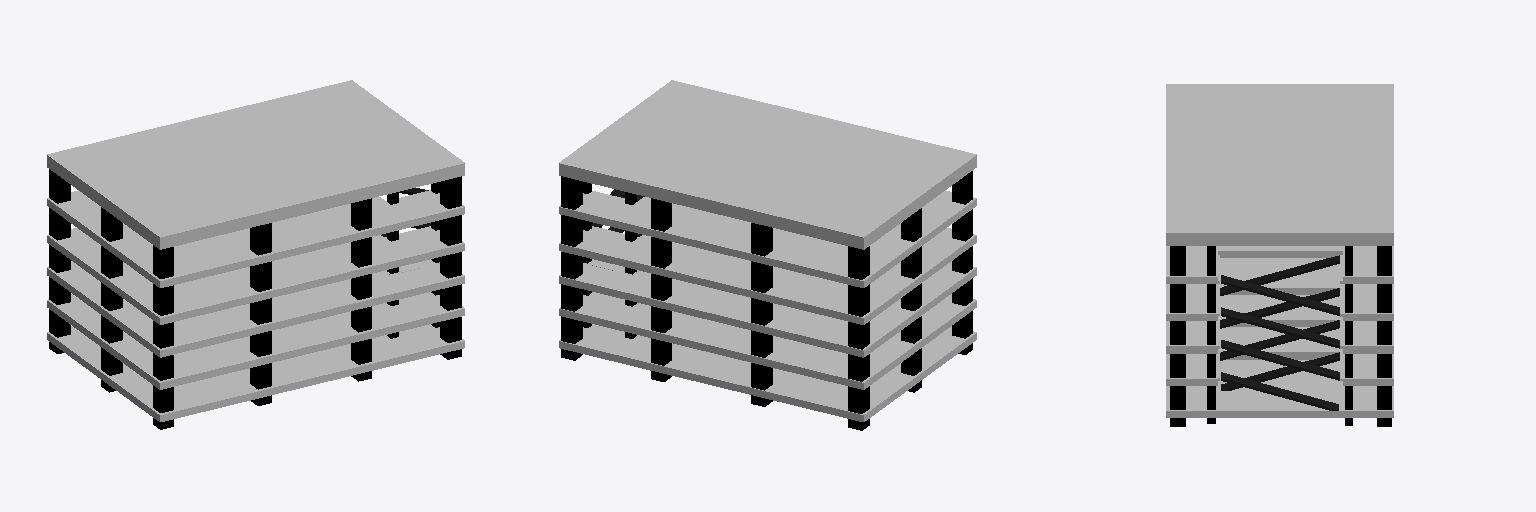
The model's file is parking.obj.
3 renders of one model, left to right at view 1: azimuth 30°, elevation 25°; view 2: azimuth 150°, elevation 25°; view 3: azimuth 270°, elevation 25°, orthographic.
Visible parts, largest first — view 1: 立方体.020_立方体.024, 立方体.003_立方体.037, 立方体.021_立方体.025, 立方体.024_立方体.028, 立方体.023_立方体.027, 立方体.022_立方体.026, 立方体.029_立方体.022, 立方体.011_立方体.005, 立方体.012_立方体.007, 立方体.018_立方体.011, 立方体.026_立方体.016, 立方体.027_立方体.020; view 2: 立方体.020_立方体.024, 立方体.003_立方体.037, 立方体.021_立方体.025, 立方体.024_立方体.028, 立方体.023_立方体.027, 立方体.022_立方体.026, 立方体.027_立方体.020, 立方体.028_立方体.033, 立方体.016_立方体.008, 立方体.019_立方体.012, 立方体.026_立方体.016, 立方体.029_立方体.022; view 3: 立方体.020_立方体.024, 立方体.015_立方体.019, 立方体.024_立方体.028, 立方体.021_立方体.025, 立方体.023_立方体.027, 立方体.022_立方体.026, 立方体.003_立方体.037, 立方体.011_立方体.005, 立方体.028_立方体.033, 立方体.008_立方体.004, 立方体.017_立方体.021.
Part boxes in pixels (x1,y1,x2,y2): 立方体.020_立方体.024: (47,80,464,249); 立方体.003_立方体.037: (47,190,464,287); 立方体.021_立方体.025: (47,227,464,324); 立方体.024_立方体.028: (47,324,464,421); 立方体.023_立方体.027: (47,292,464,389); 立方体.022_立方体.026: (47,261,464,357); 立方体.029_立方体.022: (153,245,173,429); 立方体.011_立方体.005: (440,176,461,359); 立方体.012_立方体.007: (250,223,271,405); 立方体.018_立方体.011: (351,198,371,381); 立方体.026_立方体.016: (101,207,122,392); 立方体.027_立方体.020: (49,169,70,353); 立方体.020_立方体.024: (559,80,976,249); 立方体.003_立方体.037: (559,190,976,287); 立方体.021_立方体.025: (559,227,976,324); 立方体.024_立方体.028: (559,324,976,421); 立方体.023_立方体.027: (559,292,976,389); 立方体.022_立方体.026: (559,261,976,357); 立方体.027_立方体.020: (848,246,869,430); 立方体.028_立方体.033: (561,176,582,360); 立方体.016_立方体.008: (751,223,772,406); 立方体.019_立方体.012: (651,198,671,381); 立方体.026_立方体.016: (901,208,921,392); 立方体.029_立方体.022: (952,171,972,354); 立方体.020_立方体.024: (1166,84,1393,245); 立方体.015_立方体.019: (1220,255,1339,410); 立方体.024_立方体.028: (1166,360,1393,417); 立方体.021_立方体.025: (1166,258,1393,320); 立方体.023_立方体.027: (1166,327,1393,385); 立方体.022_立方体.026: (1166,295,1393,353); 立方体.003_立方体.037: (1166,246,1393,283); 立方体.011_立方体.005: (1170,246,1185,426); 立方体.028_立方体.033: (1377,246,1391,426); 立方体.008_立方体.004: (1207,246,1215,423); 立方体.017_立方体.021: (1345,246,1352,425).
Size of the model in its own units: 46.85 by 28.49 by 30.16.